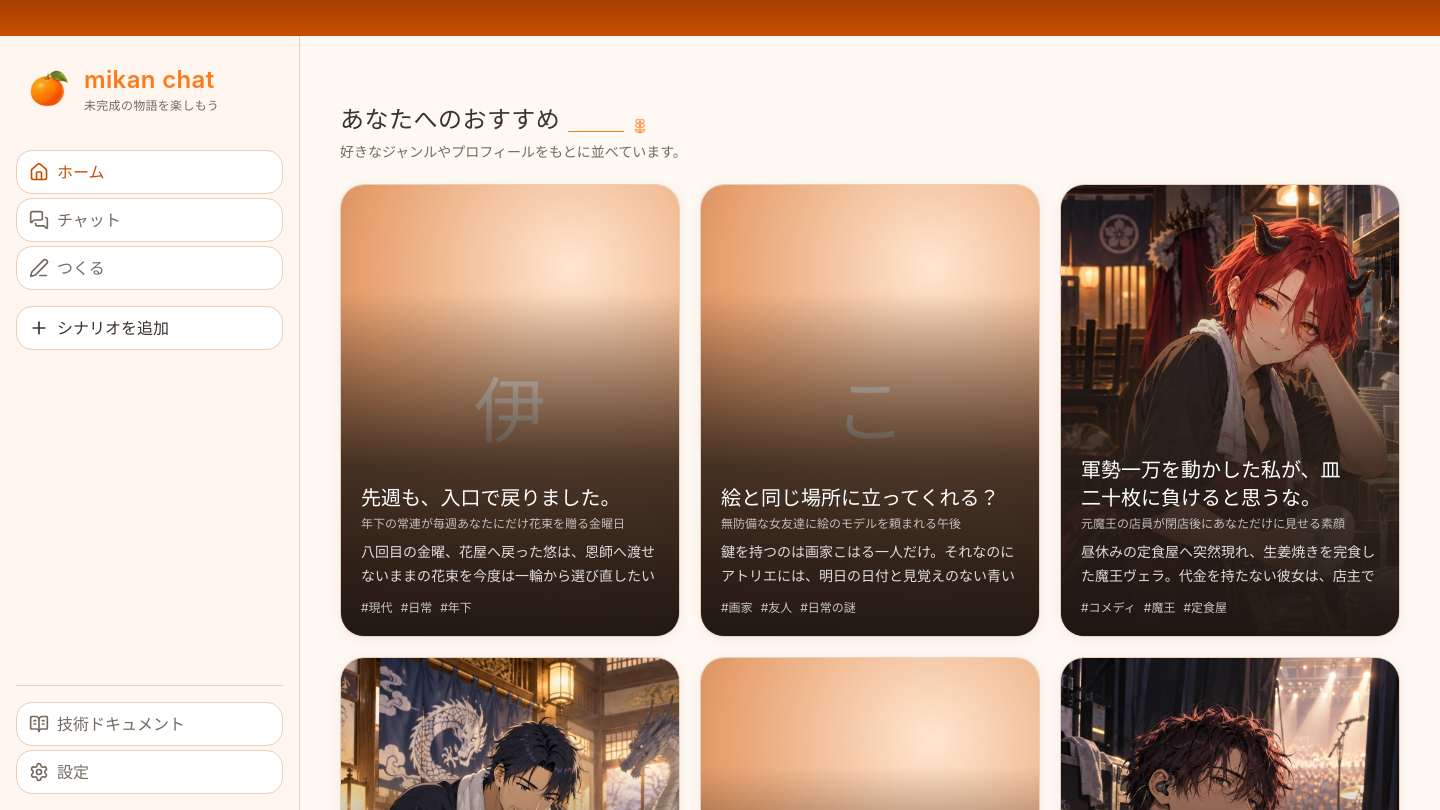
Test: mikan chat UI flow › 会話済みのシナリオをおすすめから外してチャットに表示する
The image size is (1440, 810).
Step 1. Click the button "チャット" → (89, 220), box [16,198,283,242]
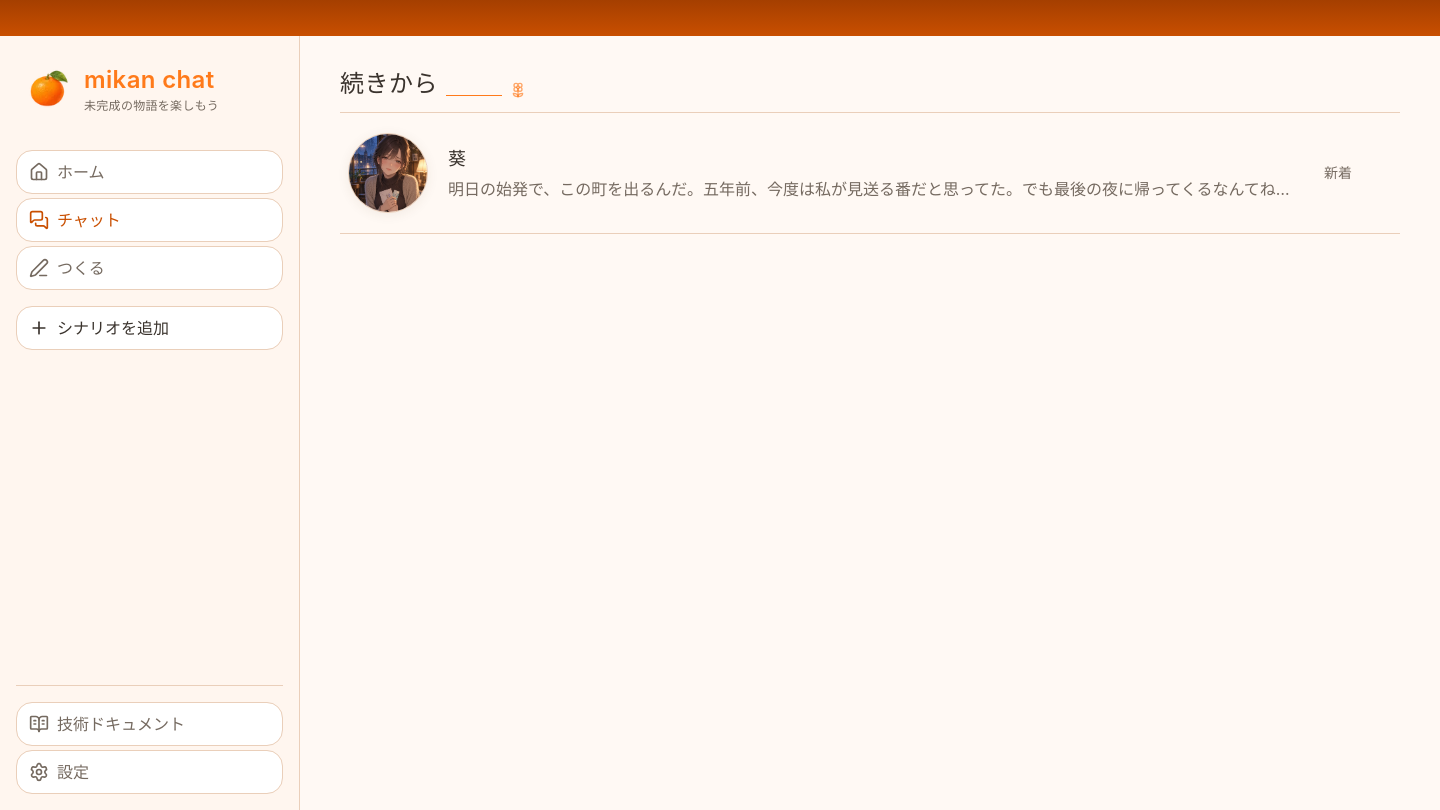
Now the button "葵" is shown, box [340,113,1400,233]
